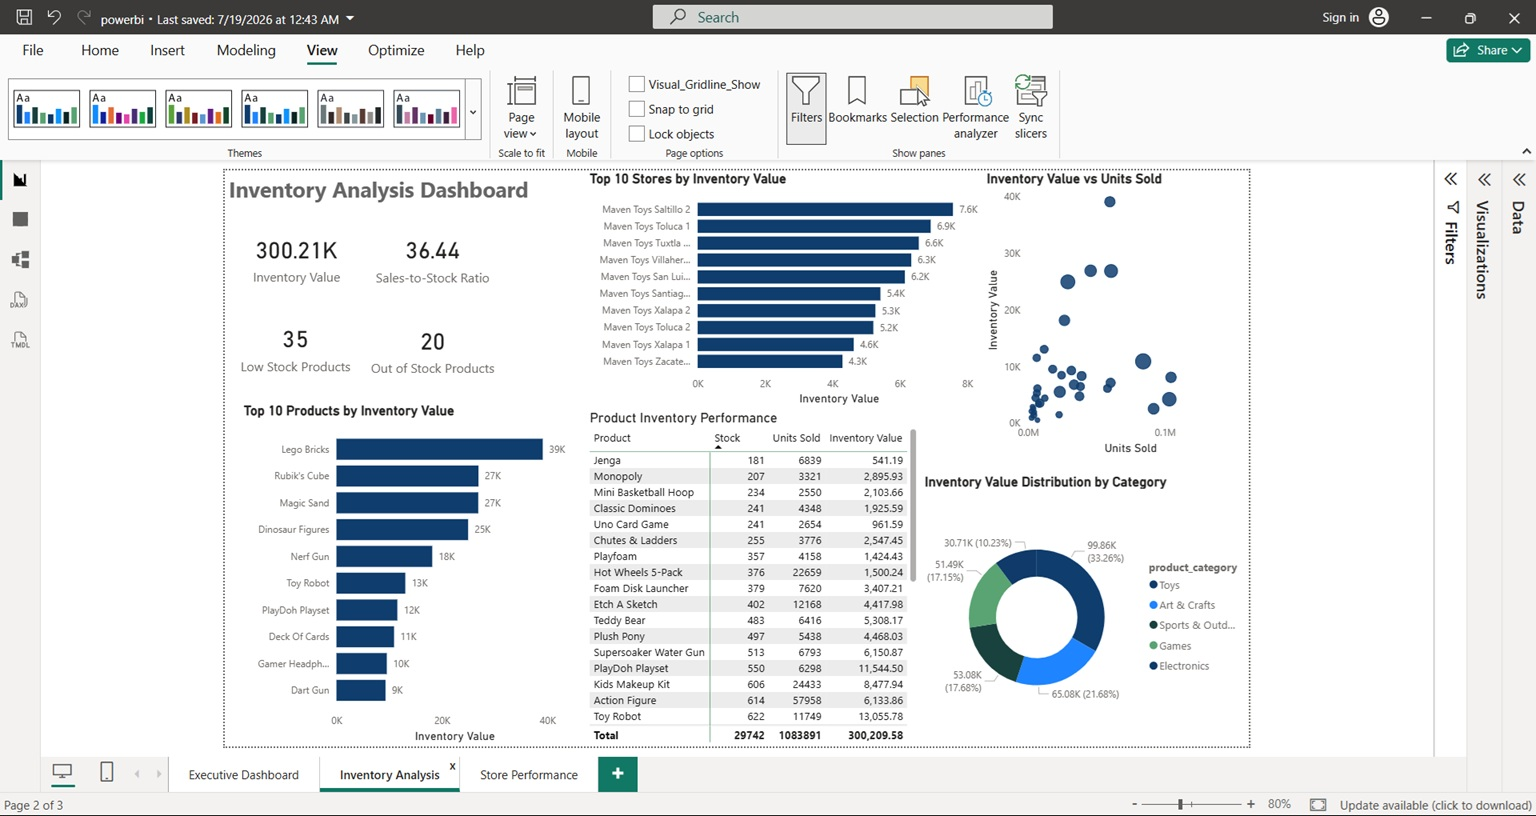

This screenshot's page, from the dashboard's own definition file:
{"tool":"powerbi","page":{"name":"Inventory Analysis","canvas":[1280,720],"ordinal":1},"visuals":[{"type":"card","fields":{"Values":["00_Measures.Inventory Value"]},"box":[2.4,45.2,174.9,127.2],"z":0},{"type":"barChart","title":"Top 10 Stores by Inventory Value","fields":{"Y":["00_Measures.Inventory Value"],"Category":["public vw_inventory_analysis.store_name"]},"box":[451.2,0,506.2,298.8],"z":1000},{"type":"barChart","title":"Top 10 Products by Inventory Value","fields":{"Y":["00_Measures.Inventory Value"],"Category":["public vw_inventory_analysis.product_name"]},"box":[18.8,290,432.5,430],"z":2000},{"type":"card","fields":{"Values":["00_Measures.Sales-to-Stock Ratio"]},"box":[177.3,51.4,165.1,116.2],"z":3000},{"type":"card","fields":{"Values":["00_Measures.Low Stock Products"]},"box":[1.2,162.6,174.9,114.9],"z":4000},{"type":"card","fields":{"Values":["00_Measures.Out of Stock Products"]},"box":[177.3,167.5,165.1,110.1],"z":5000},{"type":"textbox","box":[0,0,397.9,45.1],"z":6000},{"type":"pivotTable","title":" Product Inventory Performance","fields":{"Rows":["public vw_inventory_analysis.product_name"],"Values":["Sum(public vw_inventory_analysis.stock_on_hand)","Sum(public vw_inventory_analysis.total_units_sold)","00_Measures.Inventory Value"]},"box":[451.2,298.8,418.8,421.2],"z":7000},{"type":"donutChart","title":"Inventory Value Distribution by Category","fields":{"Y":["00_Measures.Inventory Value"],"Category":["public vw_inventory_analysis.product_category"]},"box":[870,378.8,410,341.2],"z":8000},{"type":"scatterChart","title":"Inventory Value vs Units Sold","fields":{"X":["Sum(public vw_inventory_analysis.total_units_sold)"],"Y":["00_Measures.Inventory Value"],"Category":["public vw_inventory_analysis.product_name"],"Size":["Sum(public vw_inventory_analysis.stock_on_hand)"]},"box":[947.5,0,332.5,360],"z":9000}]}

Visuals, with their boxes on the page's 1280x720 design canvas (x1, y1, x2, y2). These are canvas units, not pixel positions in the 1536x816 screenshot, which may show the page scaled, cropped or inside an application window:
card - 00_Measures.Inventory Value: BBox(2, 45, 177, 172)
"Top 10 Stores by Inventory Value" barChart: BBox(451, 0, 957, 299)
"Top 10 Products by Inventory Value" barChart: BBox(19, 290, 451, 720)
card - 00_Measures.Sales-to-Stock Ratio: BBox(177, 51, 342, 168)
card - 00_Measures.Low Stock Products: BBox(1, 163, 176, 278)
card - 00_Measures.Out of Stock Products: BBox(177, 168, 342, 278)
textbox: BBox(0, 0, 398, 45)
" Product Inventory Performance" pivotTable: BBox(451, 299, 870, 720)
"Inventory Value Distribution by Category" donutChart: BBox(870, 379, 1280, 720)
"Inventory Value vs Units Sold" scatterChart: BBox(948, 0, 1280, 360)
